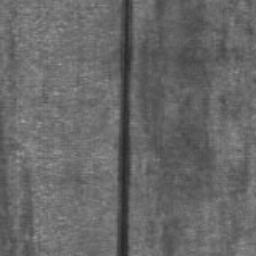Scratches: (116, 0, 134, 256)
